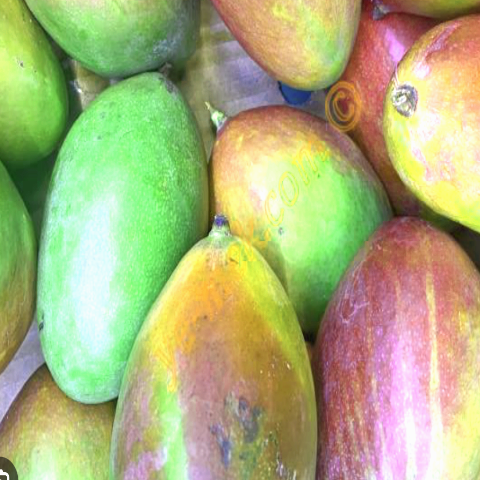mango: (33, 34, 212, 421), (100, 209, 331, 479), (193, 58, 396, 341), (299, 165, 480, 479)
